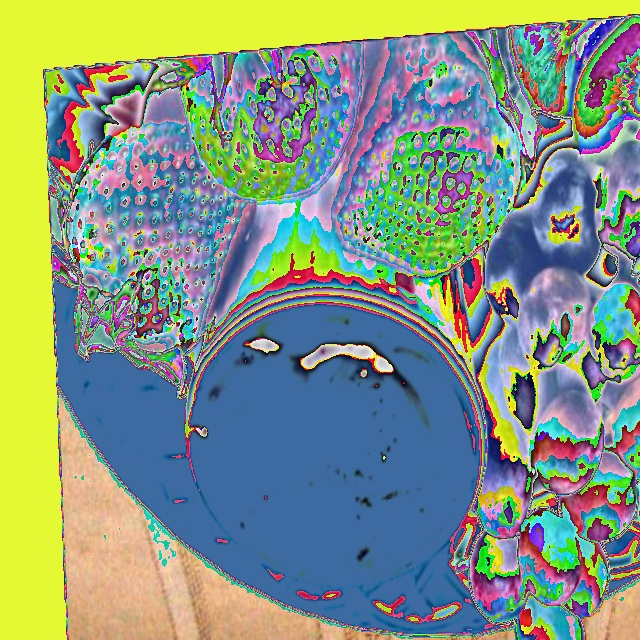background: (49, 16, 639, 639), (189, 280, 478, 585)
